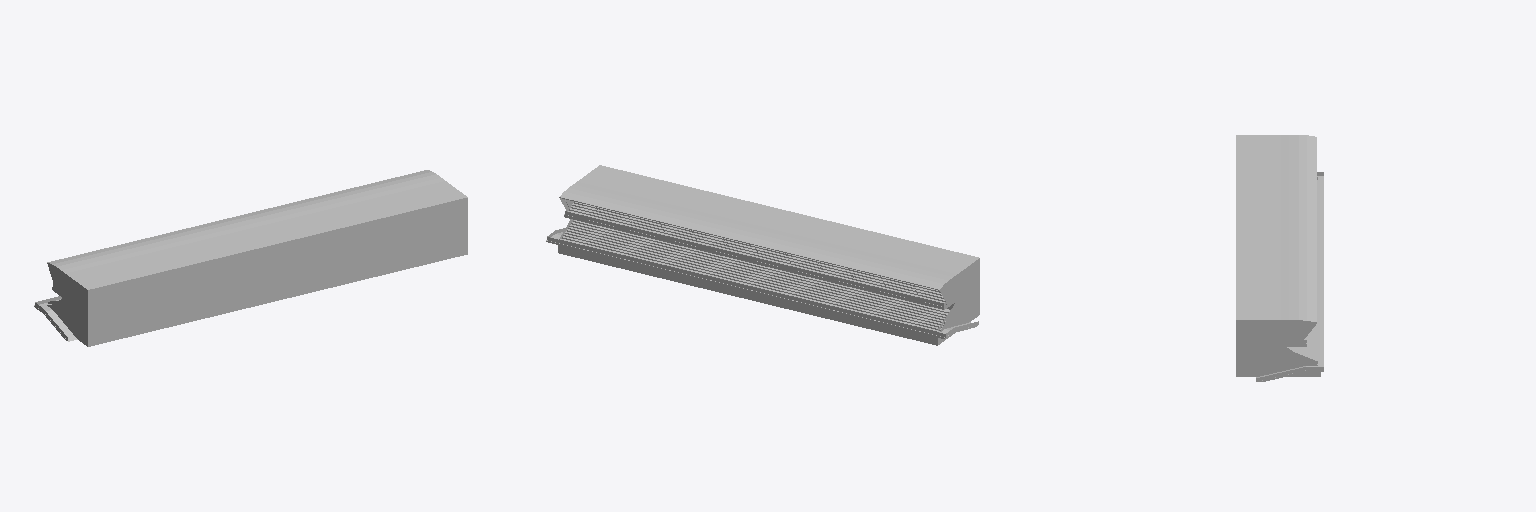
The model's file is GrandStand-08.obj.
The picture shows the model from 3 angles: view 1: azimuth 30°, elevation 25°; view 2: azimuth 150°, elevation 25°; view 3: azimuth 270°, elevation 25°; orthographic projection.
Parts seen in each view (by area): view 1: Stand-08_GrandStand-08; view 2: Stand-08_GrandStand-08; view 3: Stand-08_GrandStand-08.
Boxes of the visible parts, x1=… form: Stand-08_GrandStand-08: x1=34, y1=170, x2=467, y2=346; Stand-08_GrandStand-08: x1=546, y1=165, x2=979, y2=345; Stand-08_GrandStand-08: x1=1236, y1=135, x2=1323, y2=381.
Size of the model in its own units: 144 by 19.71 by 27.57.